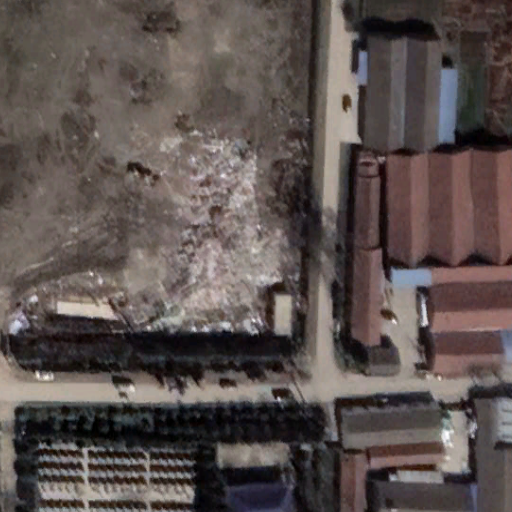msw: (147, 136, 274, 337)
